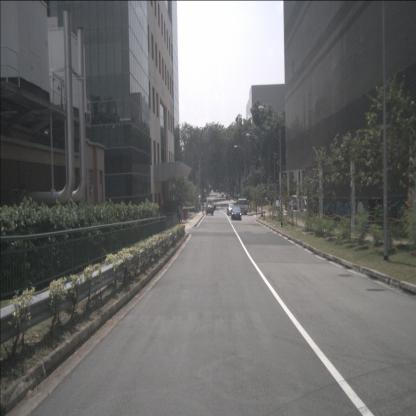human-pedestrian-adult: (178, 205, 182, 224), (270, 199, 273, 212), (202, 201, 204, 215)
vehicle-car: (231, 206, 242, 220), (285, 199, 297, 211), (227, 203, 235, 217), (272, 199, 280, 211)
vehicle-truck: (206, 198, 216, 215), (237, 198, 247, 214)
